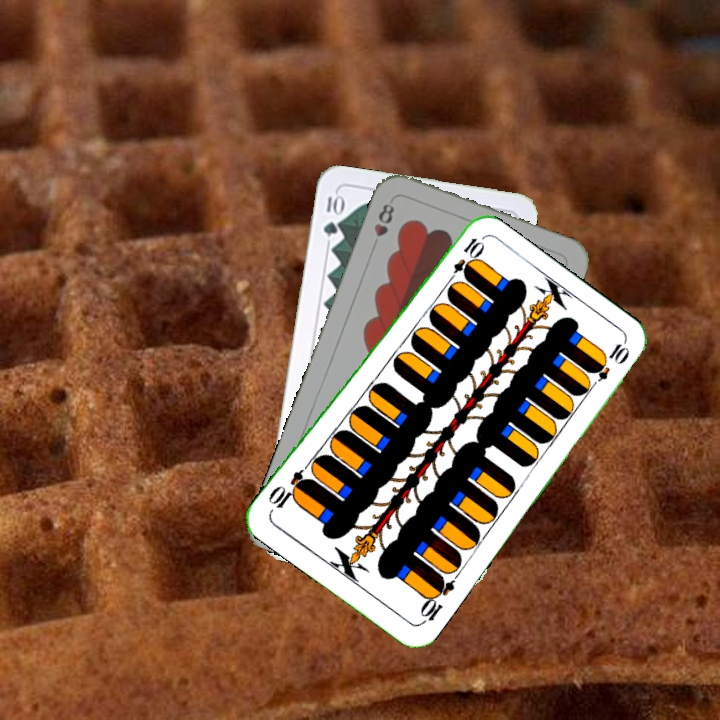E10: (415, 571, 457, 627), (443, 233, 484, 286)
G10: (319, 189, 344, 238)
H8: (370, 196, 397, 240)
